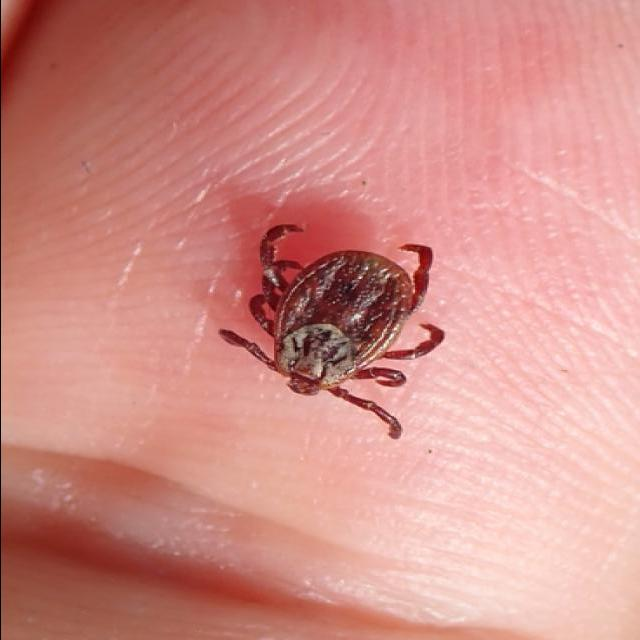Dermacentor Reticulatus-F: (217, 224, 440, 439)
